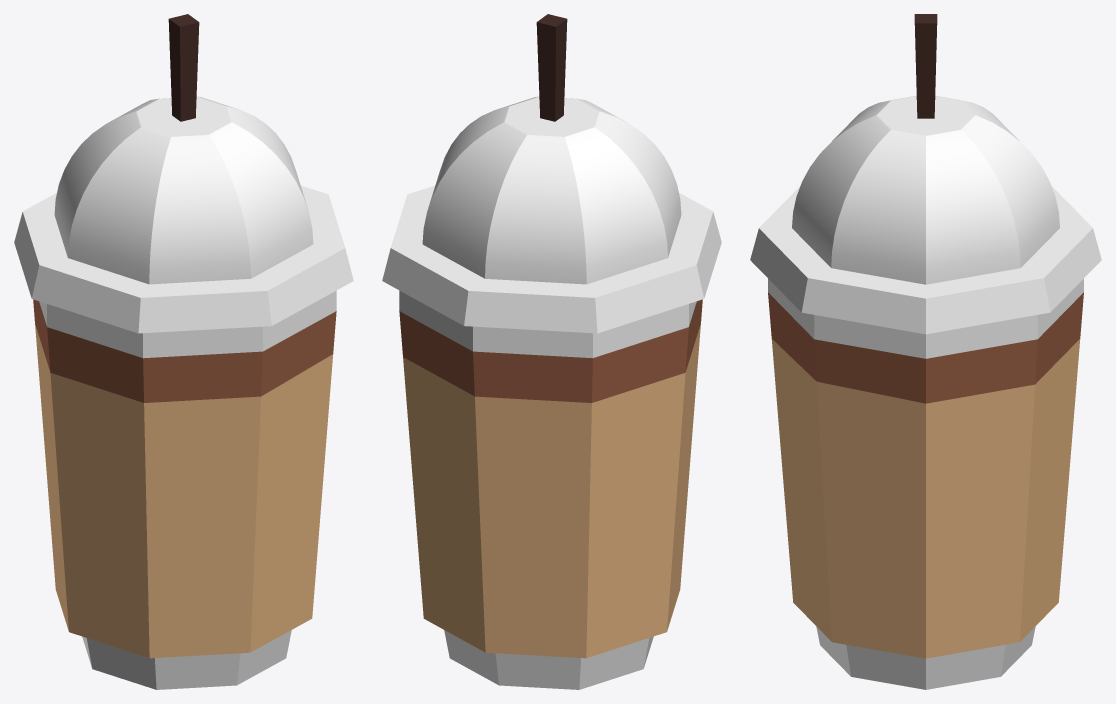
Rendered from frappe.fbx.
3 renders of one model, left to right at view 1: azimuth 30°, elevation 25°; view 2: azimuth 150°, elevation 25°; view 3: azimuth 270°, elevation 25°, orthographic.
Visible parts, largest first — view 1: frappe, straw; view 2: frappe, straw; view 3: frappe, straw.
Boxes of the visible parts, x1=… form: frappe: x1=14, y1=96, x2=353, y2=689; straw: x1=168, y1=14, x2=199, y2=121; frappe: x1=382, y1=96, x2=721, y2=689; straw: x1=536, y1=14, x2=567, y2=121; frappe: x1=750, y1=96, x2=1101, y2=689; straw: x1=914, y1=14, x2=937, y2=118.
Size of the model in its own units: 2.54 by 4.99 by 2.54.
